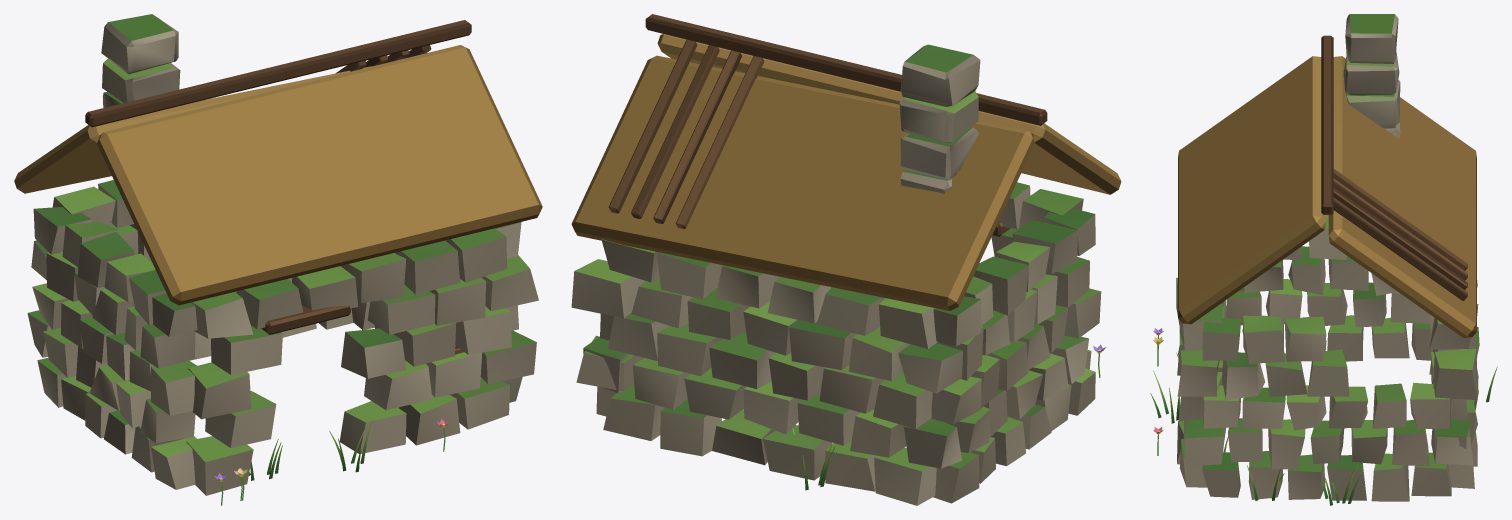
Rendered from Cottage.fbx.
The picture shows the model from 3 angles, left to right: view 1: azimuth 30°, elevation 25°; view 2: azimuth 150°, elevation 25°; view 3: azimuth 270°, elevation 25°; orthographic projection. The views are drawn at different scales.
Visible parts, largest first — view 1: Cottage; view 2: Cottage; view 3: Cottage.
Part boxes in pixels (x1=…): Cottage: x1=14, y1=14, x2=542, y2=505; Cottage: x1=571, y1=14, x2=1121, y2=505; Cottage: x1=1150, y1=14, x2=1497, y2=505.
Bounding box in the file's own units: 3.2 × 3.08 × 2.76.
